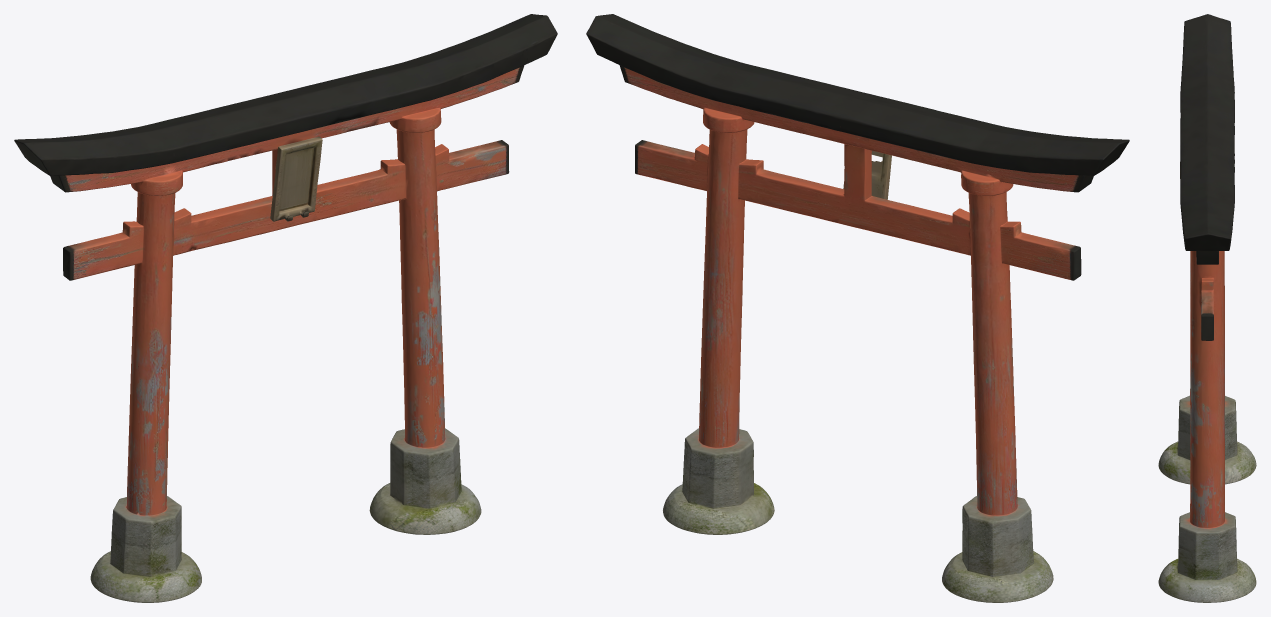
Rendered from torii.glb.
3 views of the same model, side by side, from view 1: azimuth 30°, elevation 25°; view 2: azimuth 150°, elevation 25°; view 3: azimuth 270°, elevation 25° (orthographic). The views are drawn at different scales.
Visible parts, largest first — view 1: tripo_node_01999918-020d-41c5-940b-b19ea4778896; view 2: tripo_node_01999918-020d-41c5-940b-b19ea4778896; view 3: tripo_node_01999918-020d-41c5-940b-b19ea4778896.
Part boxes in pixels (x1,y1,x2,y2): tripo_node_01999918-020d-41c5-940b-b19ea4778896: (14, 14, 557, 602); tripo_node_01999918-020d-41c5-940b-b19ea4778896: (586, 14, 1129, 602); tripo_node_01999918-020d-41c5-940b-b19ea4778896: (1158, 14, 1256, 602).
Size of the model in its own units: 1 by 0.8501 by 0.1884.
Materials: 1 (1 with a texture image).
